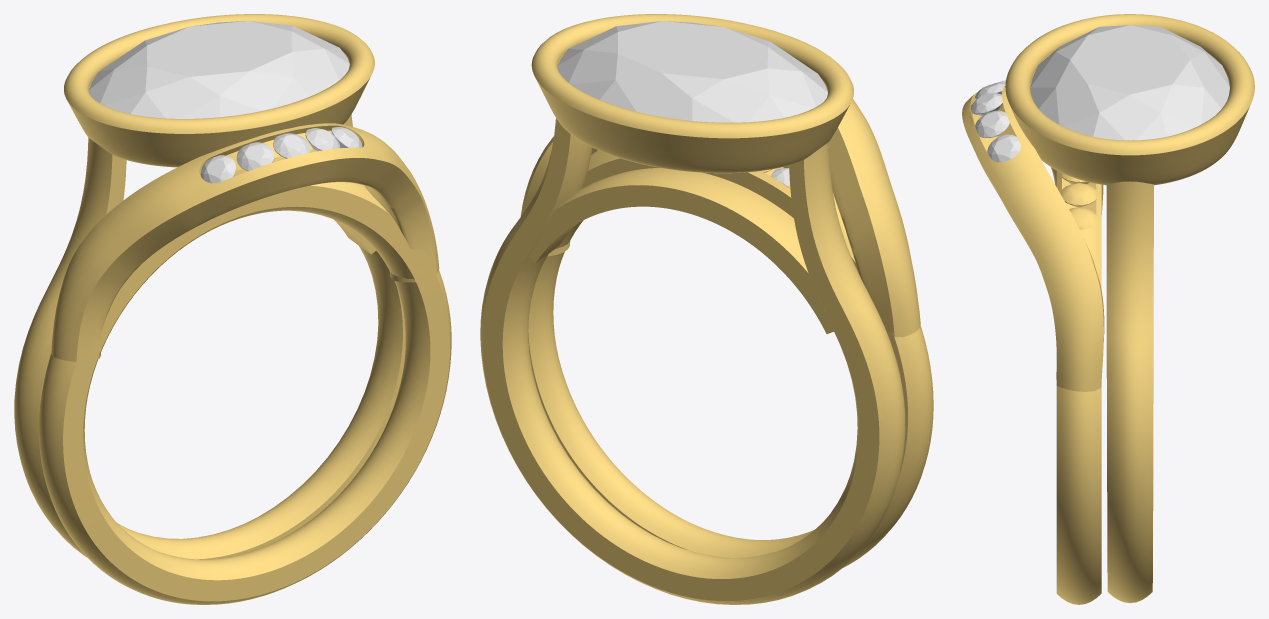
The model's file is JessicaYGbothV3_blender.glb.
3 renders of one model, left to right at view 1: azimuth 30°, elevation 25°; view 2: azimuth 150°, elevation 25°; view 3: azimuth 270°, elevation 25°, orthographic. The views are drawn at different scales.
Parts seen in each view (by area): view 1: V3 Jessica YG for 3d model, V3 Jessica dia for 3d model.010, V3 Jessica dia for 3d model.006, V3 Jessica dia for 3d model.005, V3 Jessica dia for 3d model.007, V3 Jessica dia for 3d model.008; view 2: V3 Jessica YG for 3d model, V3 Jessica dia for 3d model.010; view 3: V3 Jessica YG for 3d model, V3 Jessica dia for 3d model.010, V3 Jessica dia for 3d model.008, V3 Jessica dia for 3d model.009, V3 Jessica dia for 3d model.007.
Boxes of the visible parts, x1,y1,x2,y2 form: V3 Jessica YG for 3d model: (14,14,451,604); V3 Jessica dia for 3d model.010: (89,20,349,118); V3 Jessica dia for 3d model.006: (236,142,274,171); V3 Jessica dia for 3d model.005: (200,155,235,183); V3 Jessica dia for 3d model.007: (273,133,310,158); V3 Jessica dia for 3d model.008: (305,128,340,151); V3 Jessica YG for 3d model: (480,14,933,604); V3 Jessica dia for 3d model.010: (557,21,827,122); V3 Jessica YG for 3d model: (962,14,1254,604); V3 Jessica dia for 3d model.010: (1030,25,1229,140); V3 Jessica dia for 3d model.008: (975,110,1009,137); V3 Jessica dia for 3d model.009: (987,134,1020,162); V3 Jessica dia for 3d model.007: (971,93,1002,115).
Size of the model in its own units: 18.58 by 23.15 by 11.74.
